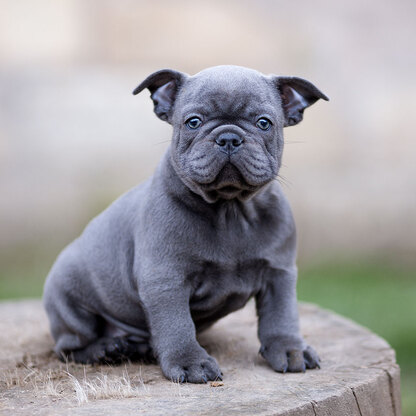bulldog: (47, 66, 333, 377)
